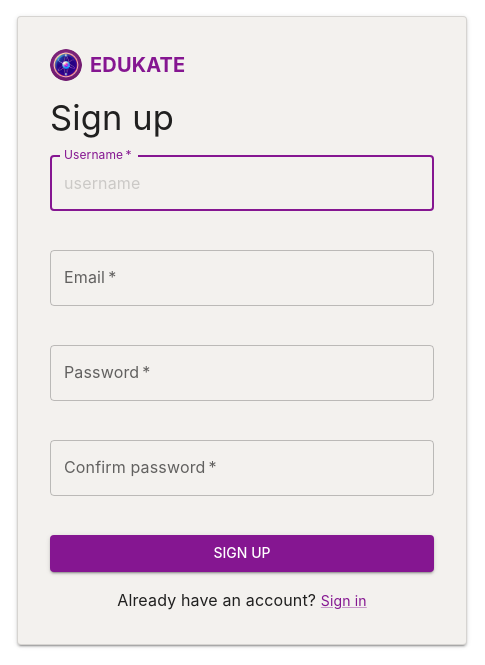
it: SignUpForm › shows email validation error on blur
Step 1. Type "not-an-email" into the field labelled "Email *" → (242, 278), box [50, 250, 434, 306]
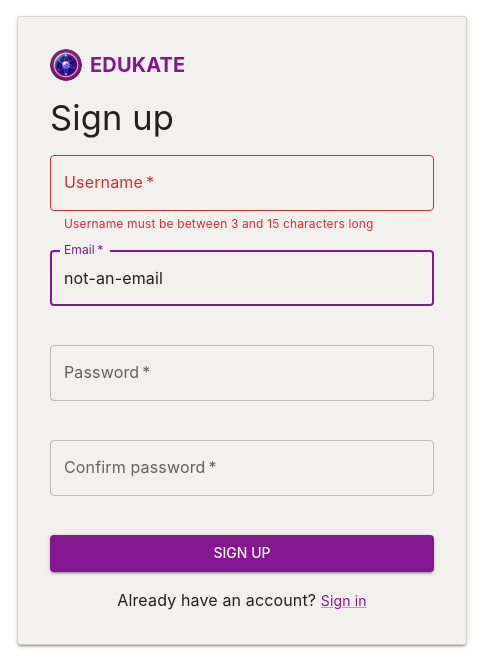
Step 2. Press Tab
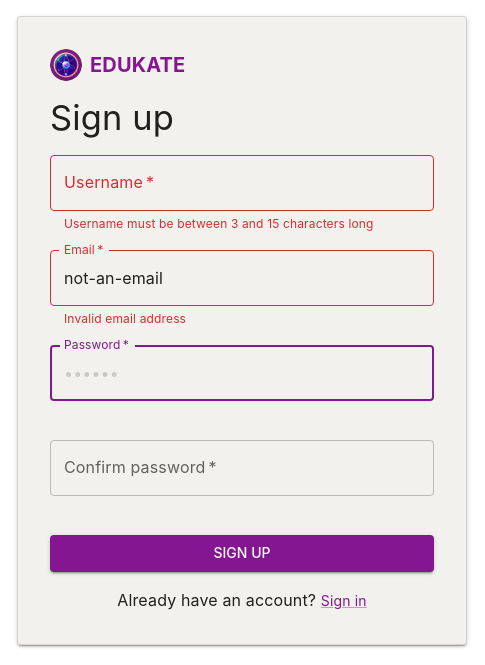
Result: the text "Invalid email address" is shown at [64, 311, 186, 326]
